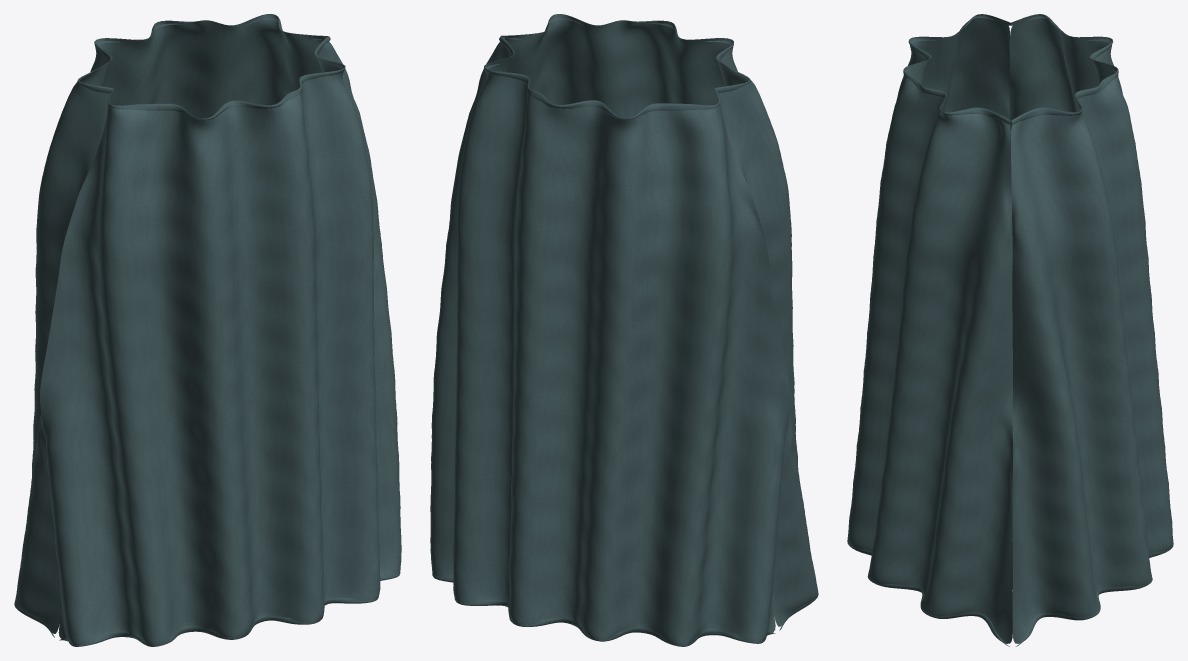
Rendered from 涂层织物.glb.
The picture shows the model from 3 angles, left to right: view 1: azimuth 30°, elevation 25°; view 2: azimuth 150°, elevation 25°; view 3: azimuth 270°, elevation 25°; orthographic projection. The views are drawn at different scales.
Visible parts, largest first — view 1: 前片, 后片, 前片 包边, 后片 包边; view 2: 后片, 前片, 后片 包边, 前片 包边; view 3: 前片, 后片, 后片 包边, 前片 包边.
Part boxes in pixels (x1,y1,x2,y2): 前片: (40, 41, 401, 646); 后片: (14, 14, 324, 633); 前片 包边: (59, 36, 400, 646); 后片 包边: (14, 14, 327, 637); 后片: (430, 41, 790, 646); 前片: (504, 14, 818, 626); 后片 包边: (432, 36, 775, 646); 前片 包边: (501, 14, 818, 630); 前片: (847, 14, 1012, 643); 后片: (1009, 14, 1173, 643); 后片 包边: (1010, 14, 1171, 646); 前片 包边: (847, 14, 1011, 646).
Bounding box in the file's own units: 0.4658 × 0.6708 × 0.3958.
4 materials, 4 textured.
